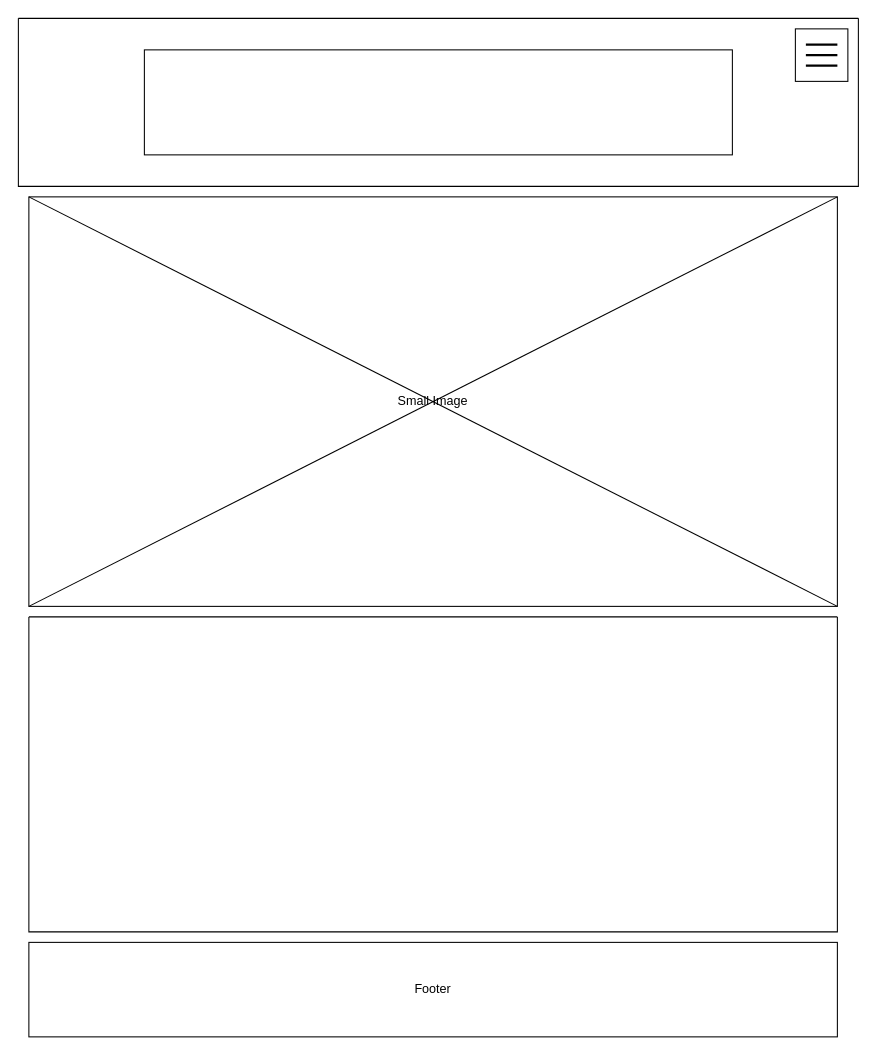
This 877x1055 diagram has some shape labels left out. The shapes that lost their labels are listed below. From the top down, each one's centre as x and y in pixels, then its label:
(437,102): Andalucia
(432,774): General Information
